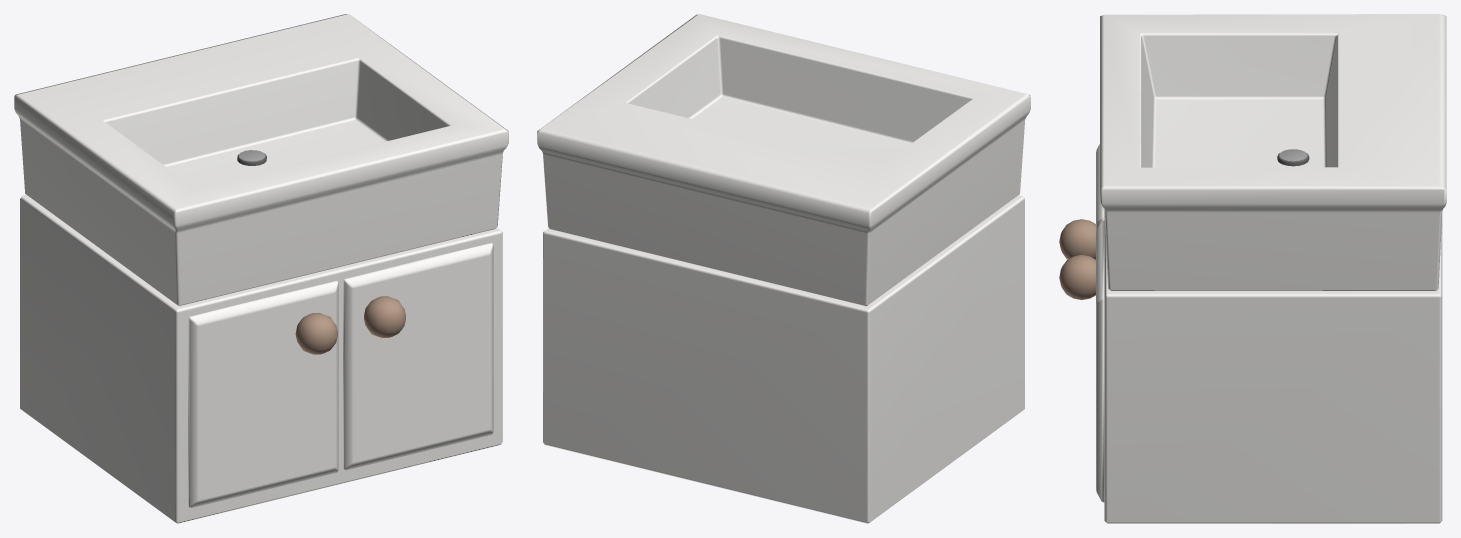
File: Drawer_brown_2.glb
3 renders of one model, left to right at view 1: azimuth 30°, elevation 25°; view 2: azimuth 150°, elevation 25°; view 3: azimuth 270°, elevation 25°, orthographic. The views are drawn at different scales.
Parts seen in each view (by area): view 1: Washstand_2; view 2: Washstand_2; view 3: Washstand_2.
Boxes of the visible parts, x1,y1,x2,y2 form: Washstand_2: (14,14,508,523); Washstand_2: (537,14,1030,523); Washstand_2: (1059,14,1446,523).
Bounding box in the file's own units: 1.13 × 1.02 × 1.06.
1 material, 1 textured.
